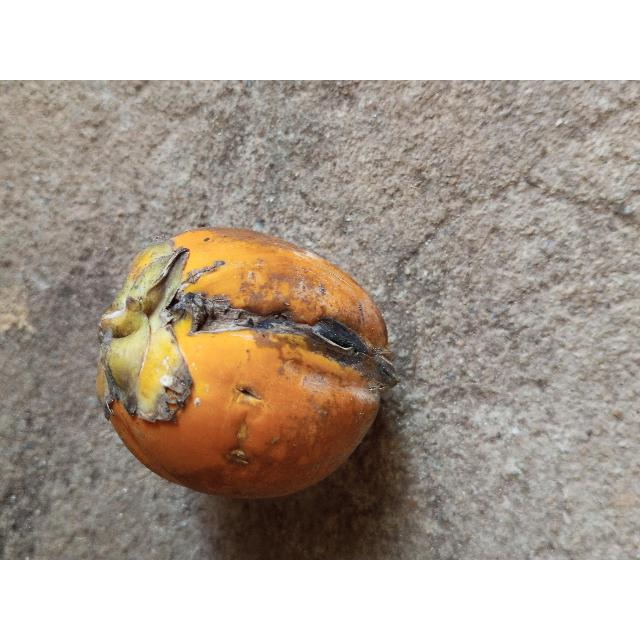damaged: (94, 227, 393, 502)
